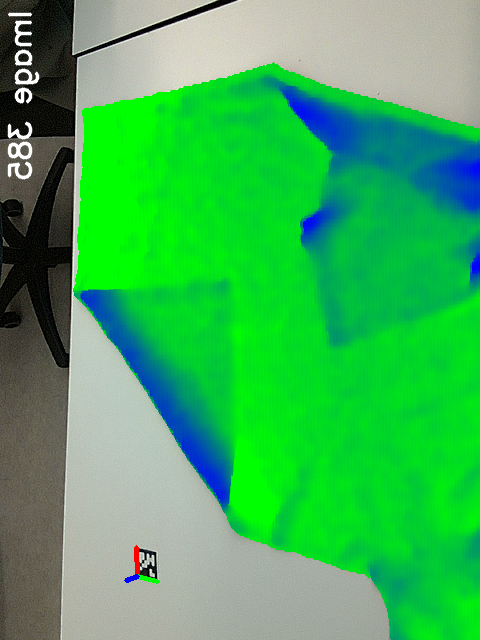V: (188, 261, 254, 316), (312, 306, 372, 365)
